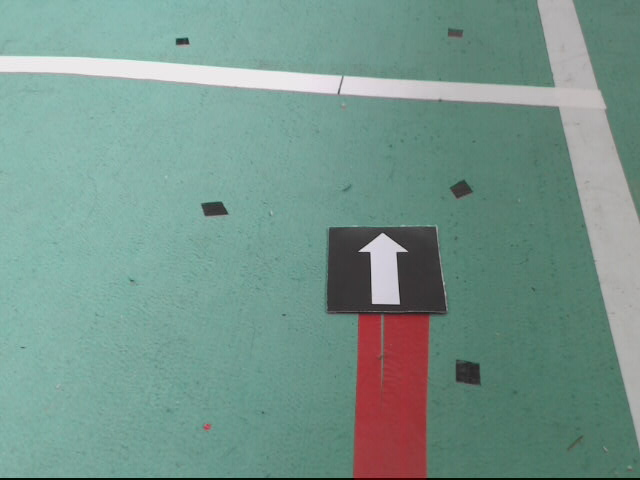straight: (328, 228, 445, 313)
